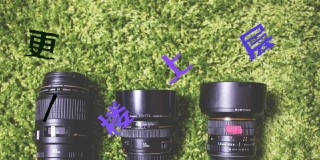一: (42, 93, 58, 122)
上: (161, 53, 193, 84)
层: (240, 23, 276, 60)
更: (25, 29, 59, 60)
楼: (96, 101, 136, 136)
